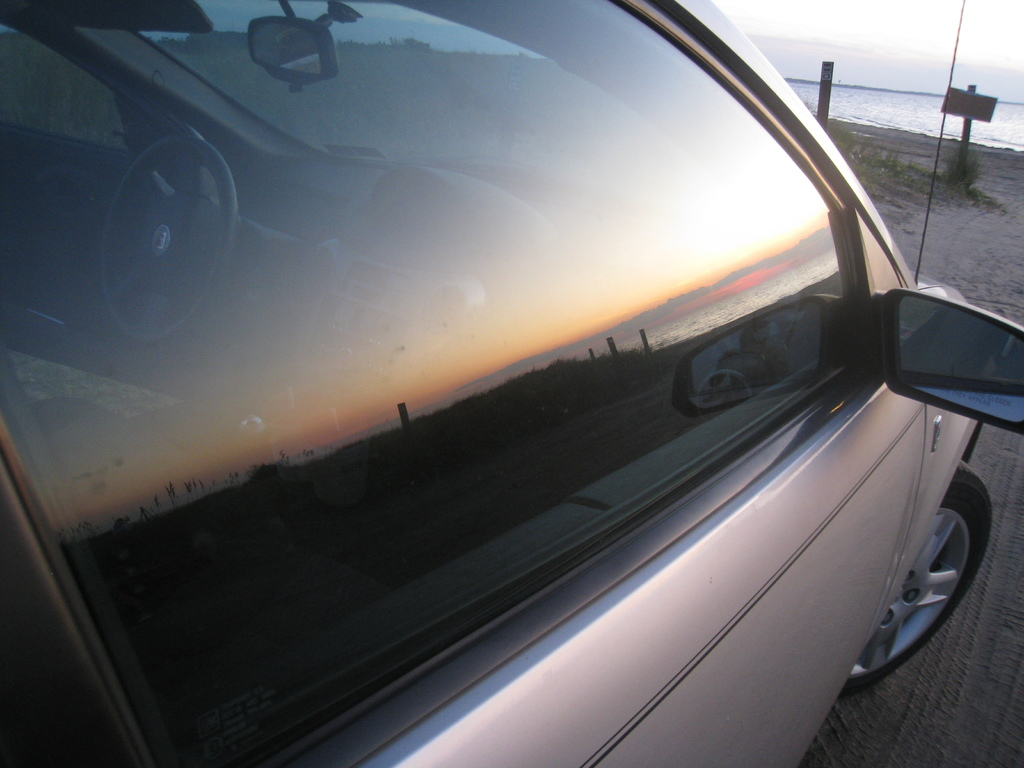Car: (0, 5, 1023, 767)
